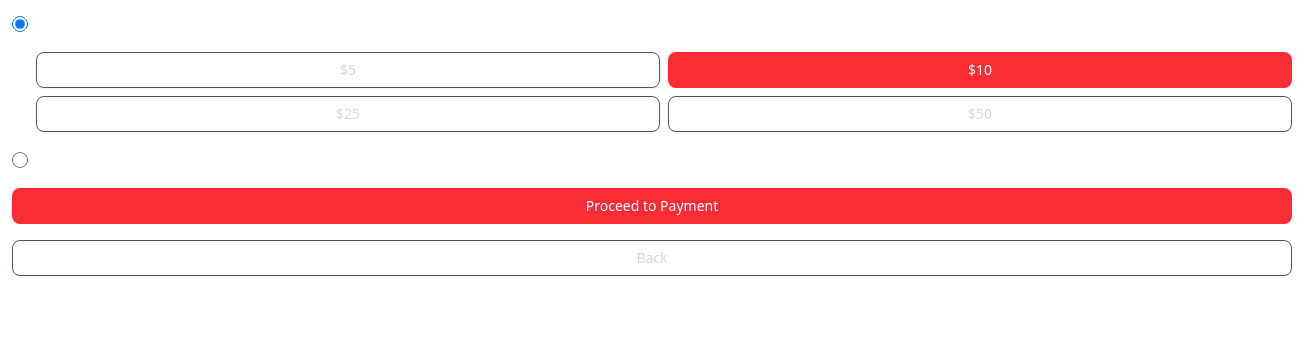
it: DonationCheckout › should show error when checkout creation fails
What coordinates should you click on to do the following:
click the button "Proceed to Payment"
I would click on:
 (652, 206)
Its box is x1=12 y1=188 x2=1292 y2=224.
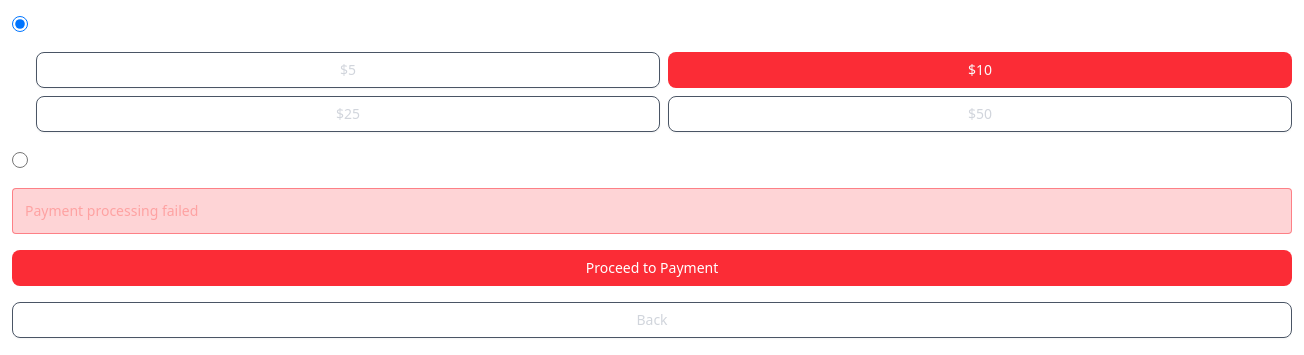
Check: the text "Payment processing failed" is shown, box x1=12 y1=188 x2=1292 y2=234
